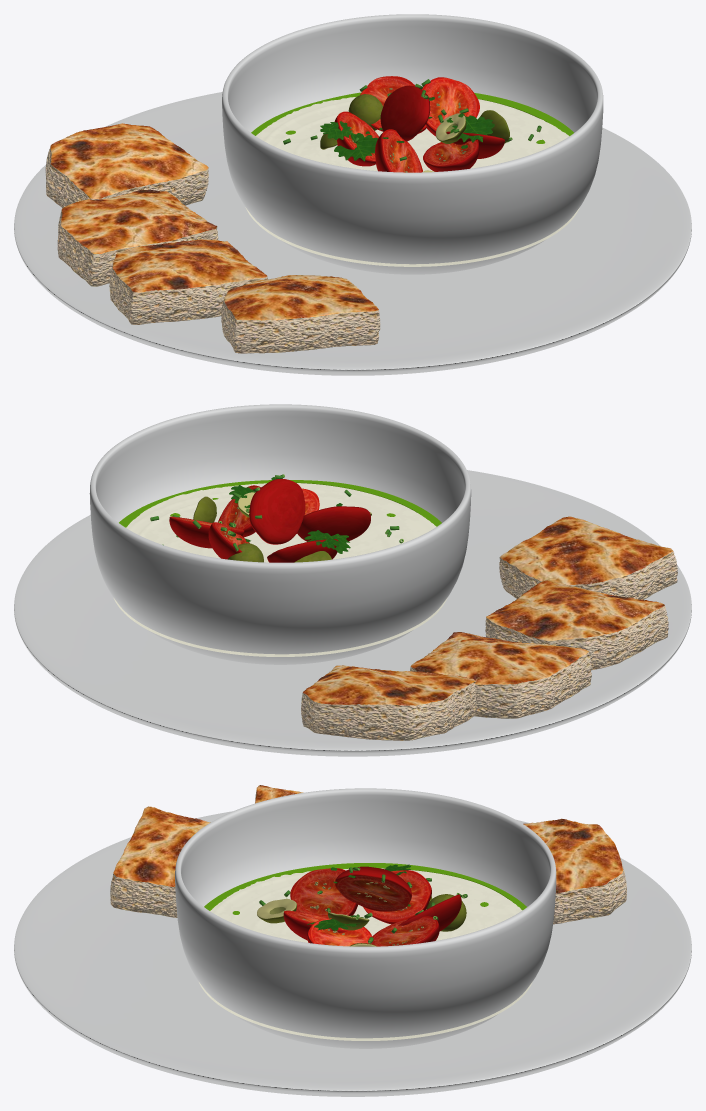
File: restaurant_dish_refined_12MB.glb
3 renders of one model, top to bottom at view 1: azimuth 30°, elevation 25°; view 2: azimuth 150°, elevation 25°; view 3: azimuth 270°, elevation 25°, orthographic.
Visible parts, largest first — view 1: Deep ceramic bowl | solid walls and base, Serving plate | fully modeled foot, underside and rounded ri, Flatbread 4 of 4 | closed crust and deeply pitted crumb, Flatbread 1 of 4 | closed crust and deeply pitted crumb, Flatbread 3 of 4 | closed crust and deeply pitted crumb, Flatbread 2 of 4 | closed crust and deeply pitted crumb, Creamy dip | solid hand-swirled volume, Cherry tomato wedge 6 | skin and sculpted cut flesh, Cherry tomato wedge 3 | skin and sculpted cut flesh, Cherry tomato wedge 4 | skin and sculpted cut flesh, Cherry tomato wedge 5 | skin and sculpted cut flesh, Herb oil | continuous meniscus around dip (+7 smaller); view 2: Deep ceramic bowl | solid walls and base, Serving plate | fully modeled foot, underside and rounded ri, Flatbread 1 of 4 | closed crust and deeply pitted crumb, Flatbread 4 of 4 | closed crust and deeply pitted crumb, Flatbread 3 of 4 | closed crust and deeply pitted crumb, Flatbread 2 of 4 | closed crust and deeply pitted crumb, Creamy dip | solid hand-swirled volume, Cherry tomato wedge 6 | skin and sculpted cut flesh, Cherry tomato wedge 4 | skin and sculpted cut flesh, Herb oil | continuous meniscus around dip, Cherry tomato wedge 3 | skin and sculpted cut flesh, Cherry tomato wedge 1 | skin and sculpted cut flesh (+3 smaller); view 3: Serving plate | fully modeled foot, underside and rounded ri, Deep ceramic bowl | solid walls and base, Creamy dip | solid hand-swirled volume, Flatbread 1 of 4 | closed crust and deeply pitted crumb, Flatbread 4 of 4 | closed crust and deeply pitted crumb, Cherry tomato wedge 6 | skin and sculpted cut flesh, Cherry tomato wedge 4 | skin and sculpted cut flesh, Herb oil | continuous meniscus around dip, Cherry tomato wedge 3 | skin and sculpted cut flesh, Cherry tomato wedge 1 | skin and sculpted cut flesh, Cherry tomato wedge 7 | skin and sculpted cut flesh, Cherry tomato wedge 2 | skin and sculpted cut flesh (+2 smaller).
Part boxes in pixels (x1,y1,x2,y2): Deep ceramic bowl | solid walls and base: (222, 14, 603, 274); Serving plate | fully modeled foot, underside and rounded ri: (14, 92, 691, 375); Flatbread 4 of 4 | closed crust and deeply pitted crumb: (221, 275, 380, 353); Flatbread 1 of 4 | closed crust and deeply pitted crumb: (45, 123, 208, 207); Flatbread 3 of 4 | closed crust and deeply pitted crumb: (109, 239, 267, 324); Flatbread 2 of 4 | closed crust and deeply pitted crumb: (57, 189, 218, 286); Creamy dip | solid hand-swirled volume: (245, 97, 579, 266); Cherry tomato wedge 6 | skin and sculpted cut flesh: (380, 85, 430, 141); Cherry tomato wedge 3 | skin and sculpted cut flesh: (422, 77, 479, 136); Cherry tomato wedge 4 | skin and sculpted cut flesh: (375, 129, 422, 172); Cherry tomato wedge 5 | skin and sculpted cut flesh: (423, 139, 479, 171); Herb oil | continuous meniscus around dip: (251, 92, 573, 135); Deep ceramic bowl | solid walls and base: (89, 404, 471, 664); Serving plate | fully modeled foot, underside and rounded ri: (14, 470, 691, 756); Flatbread 1 of 4 | closed crust and deeply pitted crumb: (301, 665, 476, 740); Flatbread 4 of 4 | closed crust and deeply pitted crumb: (499, 516, 677, 599); Flatbread 3 of 4 | closed crust and deeply pitted crumb: (485, 580, 668, 670); Flatbread 2 of 4 | closed crust and deeply pitted crumb: (410, 632, 591, 718); Creamy dip | solid hand-swirled volume: (113, 483, 447, 656); Cherry tomato wedge 6 | skin and sculpted cut flesh: (249, 478, 305, 544); Cherry tomato wedge 4 | skin and sculpted cut flesh: (297, 506, 370, 541); Herb oil | continuous meniscus around dip: (119, 480, 441, 527); Cherry tomato wedge 3 | skin and sculpted cut flesh: (169, 516, 244, 548); Cherry tomato wedge 1 | skin and sculpted cut flesh: (267, 539, 338, 562); Serving plate | fully modeled foot, underside and rounded ri: (14, 811, 691, 1096); Deep ceramic bowl | solid walls and base: (175, 788, 556, 1048); Creamy dip | solid hand-swirled volume: (199, 868, 532, 1040); Flatbread 1 of 4 | closed crust and deeply pitted crumb: (523, 818, 626, 924); Flatbread 4 of 4 | closed crust and deeply pitted crumb: (110, 806, 210, 917); Cherry tomato wedge 6 | skin and sculpted cut flesh: (334, 866, 411, 911); Cherry tomato wedge 4 | skin and sculpted cut flesh: (290, 868, 357, 917); Herb oil | continuous meniscus around dip: (204, 863, 526, 910); Cherry tomato wedge 3 | skin and sculpted cut flesh: (371, 916, 439, 946); Cherry tomato wedge 1 | skin and sculpted cut flesh: (363, 870, 431, 924); Cherry tomato wedge 7 | skin and sculpted cut flesh: (307, 918, 371, 946); Cherry tomato wedge 2 | skin and sculpted cut flesh: (398, 894, 461, 931).
Size of the model in its own units: 0.3198 by 0.0785 by 0.3198.
18 materials, 10 textured.
